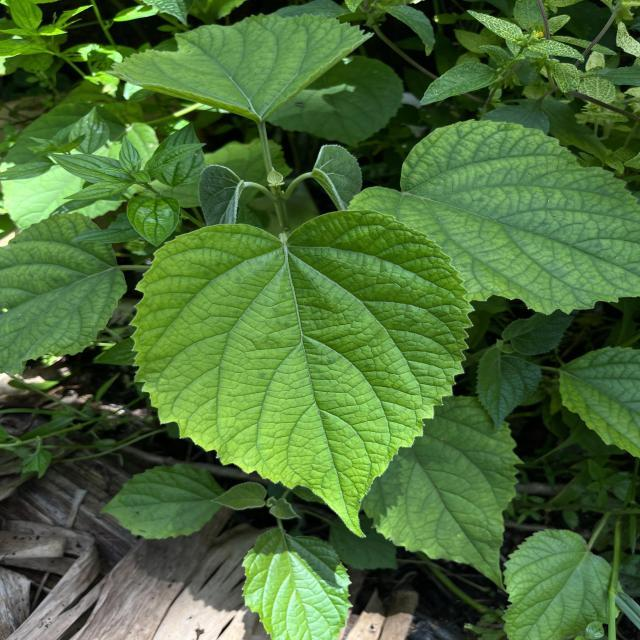Clerodendrum infortunatum: (127, 208, 479, 542), (350, 117, 640, 319), (360, 394, 528, 594), (104, 10, 378, 127), (0, 210, 128, 380)
